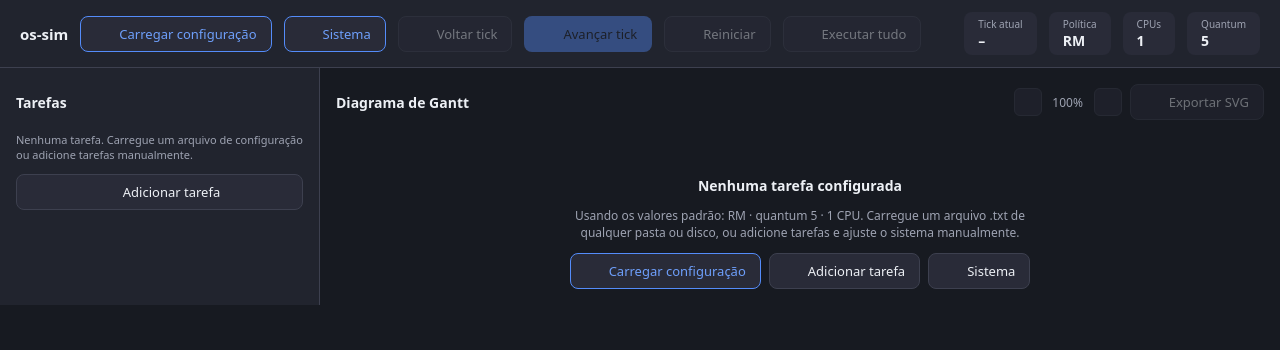
Test: App › with a loaded file › prepares without starting: parameters and task count, no clock
This screenshot has width=1280, height=350.
Step 1. Click the button "Carregar configuração" next to "os-sim" → [176, 34], box [80,16,272,52]
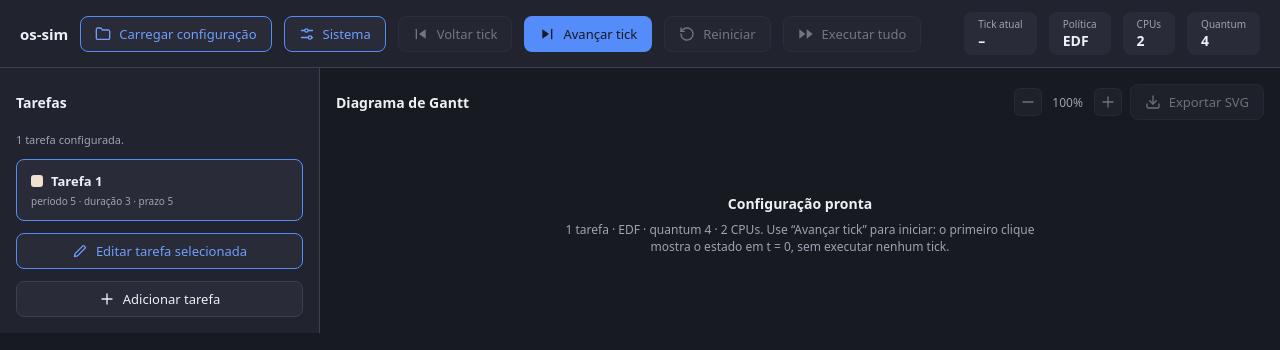
Expected: the text "EDF" is shown, [1063,31,1089,50]
Expected: the text "Configuração pronta" is shown, [728,194,872,213]
Expected: the text "1 tarefa configurada" is shown, [16,132,124,147]
